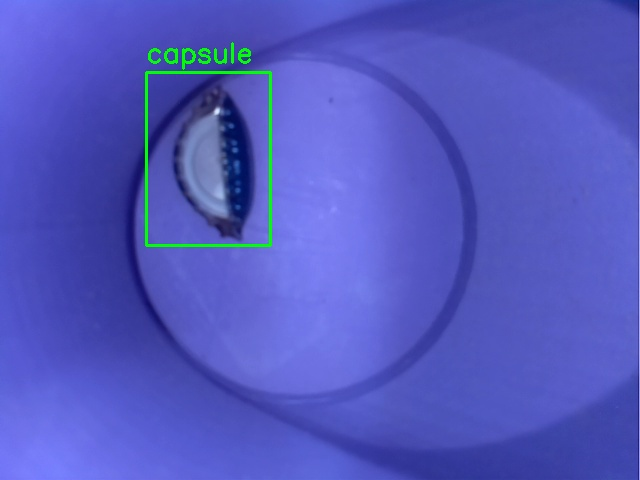capsule: (146, 72, 270, 245)
